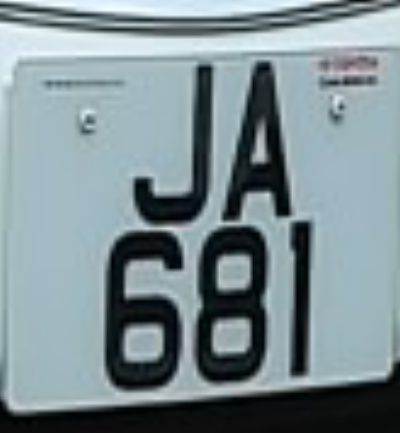1: (272, 210, 335, 392)
6: (77, 220, 196, 400)
8: (182, 215, 281, 396)
A: (221, 52, 301, 226)
J: (119, 46, 224, 235)
